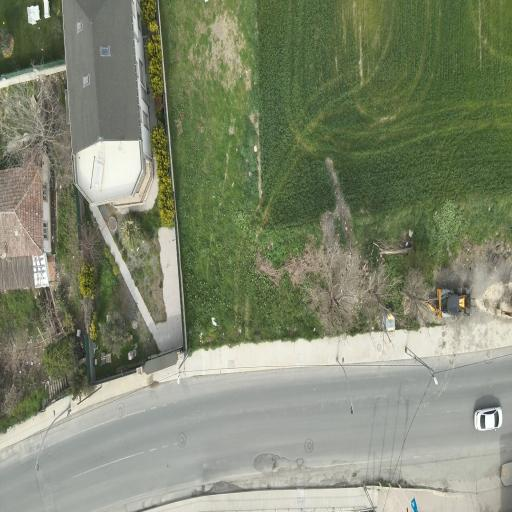car: (425, 289, 471, 317), (475, 407, 502, 430)
